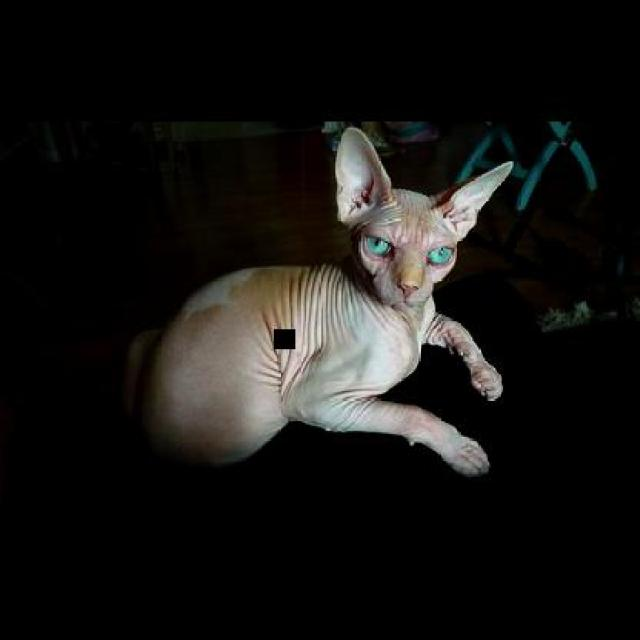unauthorized: (121, 124, 514, 478)
